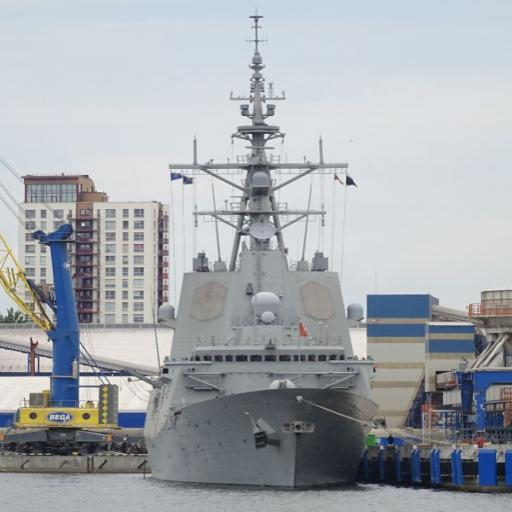Fragata: (140, 4, 382, 493)
